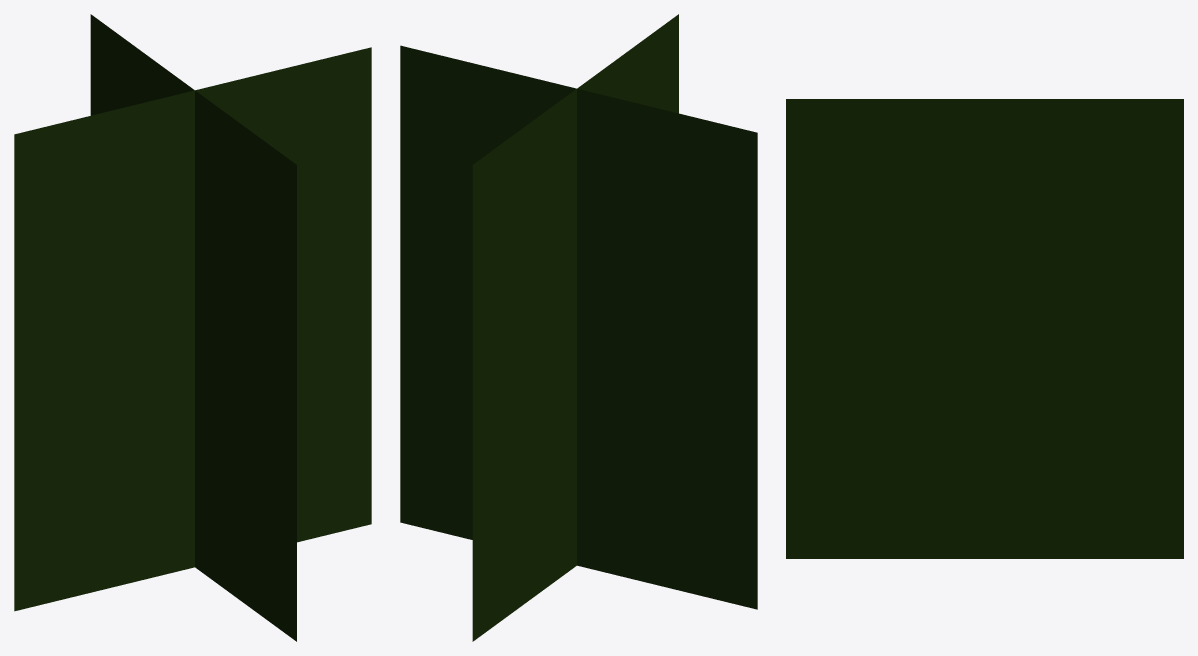
The model's file is RT PlantMOB V04 DS.FBX.
3 views of the same model, side by side, from view 1: azimuth 30°, elevation 25°; view 2: azimuth 150°, elevation 25°; view 3: azimuth 270°, elevation 25° (orthographic). The views are drawn at different scales.
Parts seen in each view (by area): view 1: RT PlantMOB V04 DS; view 2: RT PlantMOB V04 DS; view 3: RT PlantMOB V04 DS.
Boxes of the visible parts, x1,y1,x2,y2 form: RT PlantMOB V04 DS: [14, 14, 371, 641]; RT PlantMOB V04 DS: [400, 14, 757, 641]; RT PlantMOB V04 DS: [786, 99, 1183, 558].
Bounding box in the file's own units: 2.22 × 2.83 × 2.22.
